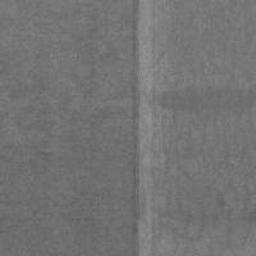Welding line: (128, 0, 142, 256)
